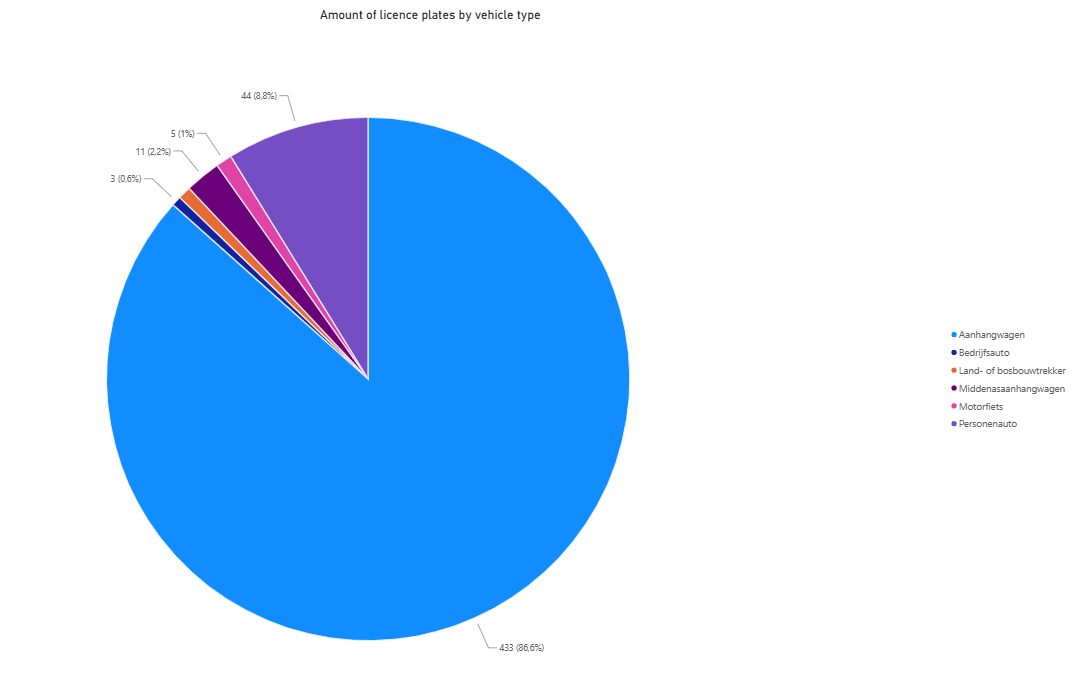

The page's visual inventory and layout, read from the dashboard file:
{"tool":"powerbi","page":{"name":"Pie chart","canvas":[1920,1080],"ordinal":1},"visuals":[{"type":"pieChart","title":"Amount of licence plates by vehicle type","fields":{"Series":["rdw_voertuigen.voertuigsoort"],"Y":["CountNonNull(rdw_voertuigen.kenteken)"]},"box":[10.2,0,1909.8,1079.6],"z":0}]}

Visuals, with their boxes on the page's 1920x1080 design canvas (x1, y1, x2, y2). These are canvas units, not pixel positions in the 1078x688 screenshot, which may show the page scaled, cropped or inside an application window:
"Amount of licence plates by vehicle type" pieChart: (10, 0, 1920, 1080)
